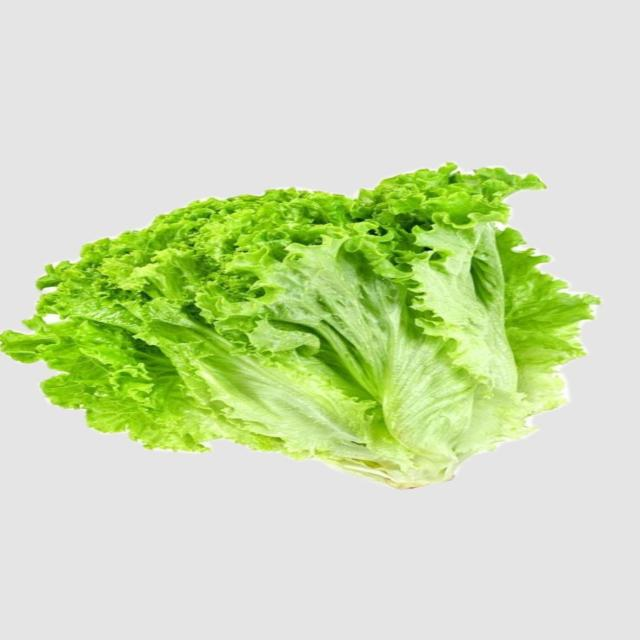lettuce: (1, 164, 597, 487)
